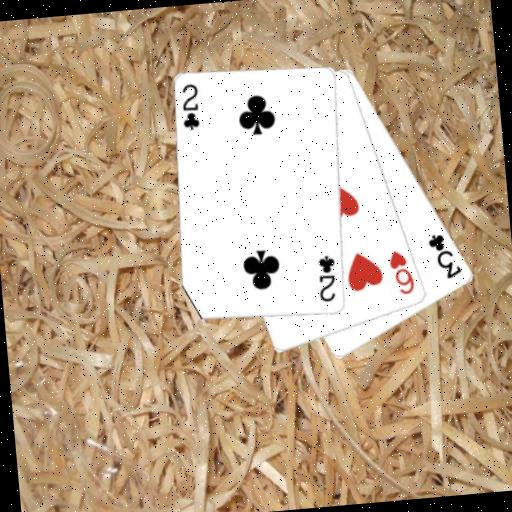2C: (314, 252, 340, 304), (177, 81, 203, 133)
3C: (424, 229, 464, 282)
6H: (386, 247, 418, 298)
